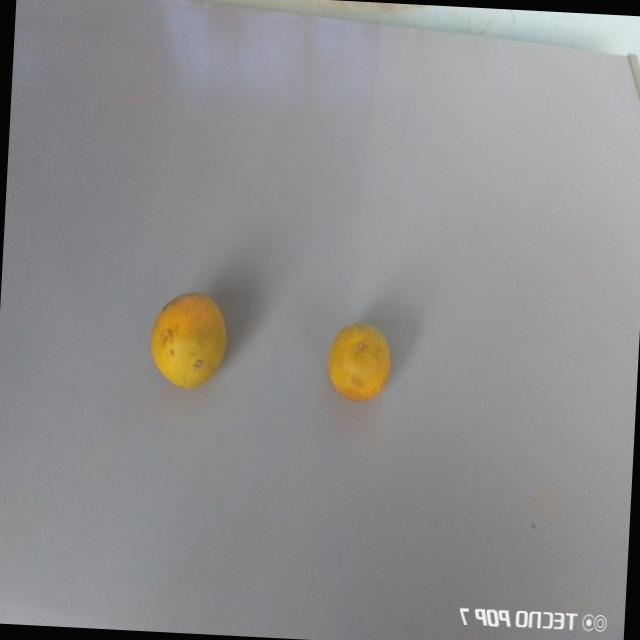agrume: (139, 286, 245, 400), (324, 311, 401, 409)
